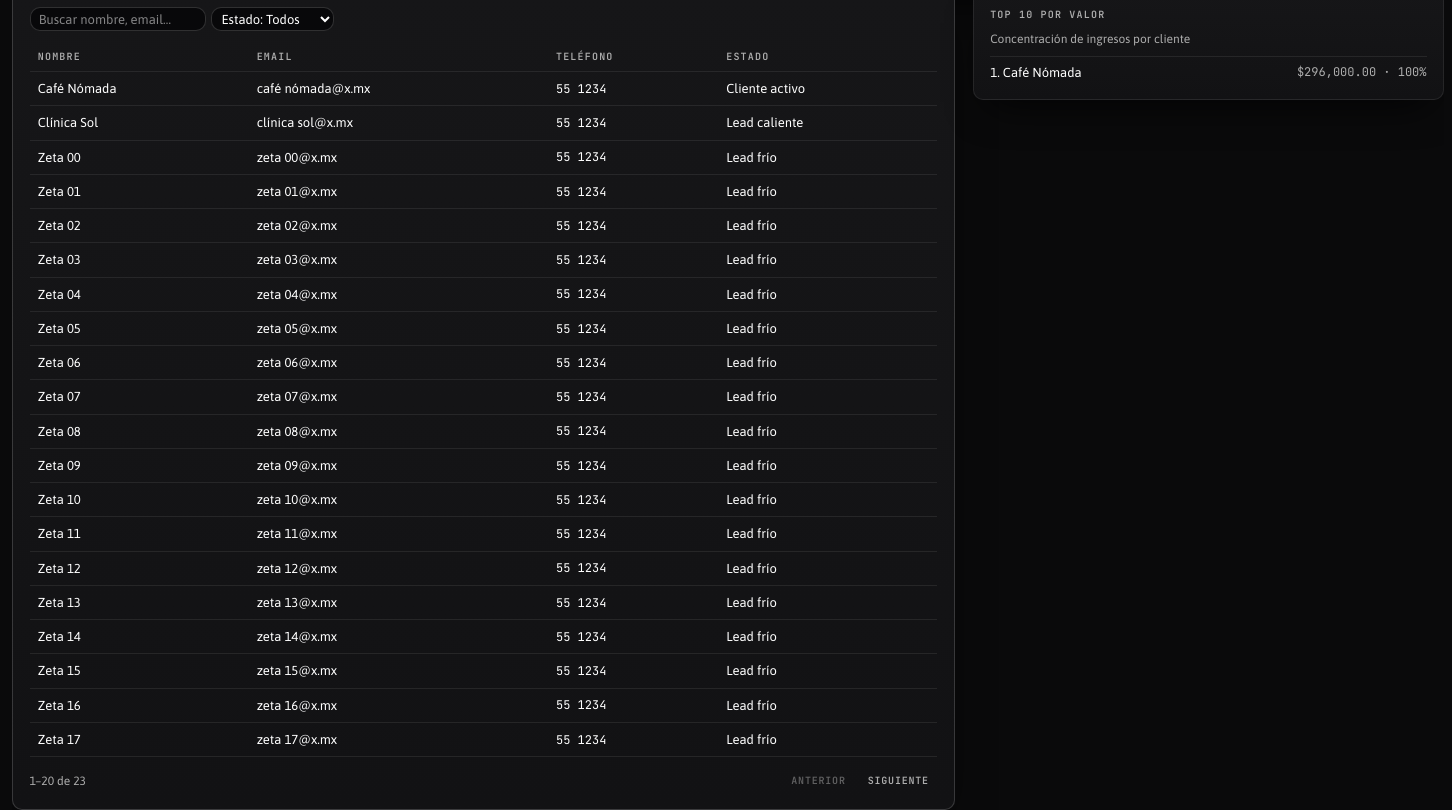
Contactos › pages the table twenty at a time
(page scrolled)
Expected: the text "Clínica Sol" is shown, [30,106,248,140]
Click the button "Siguiente": (898, 780) [860,768,937,793]
(page scrolled)
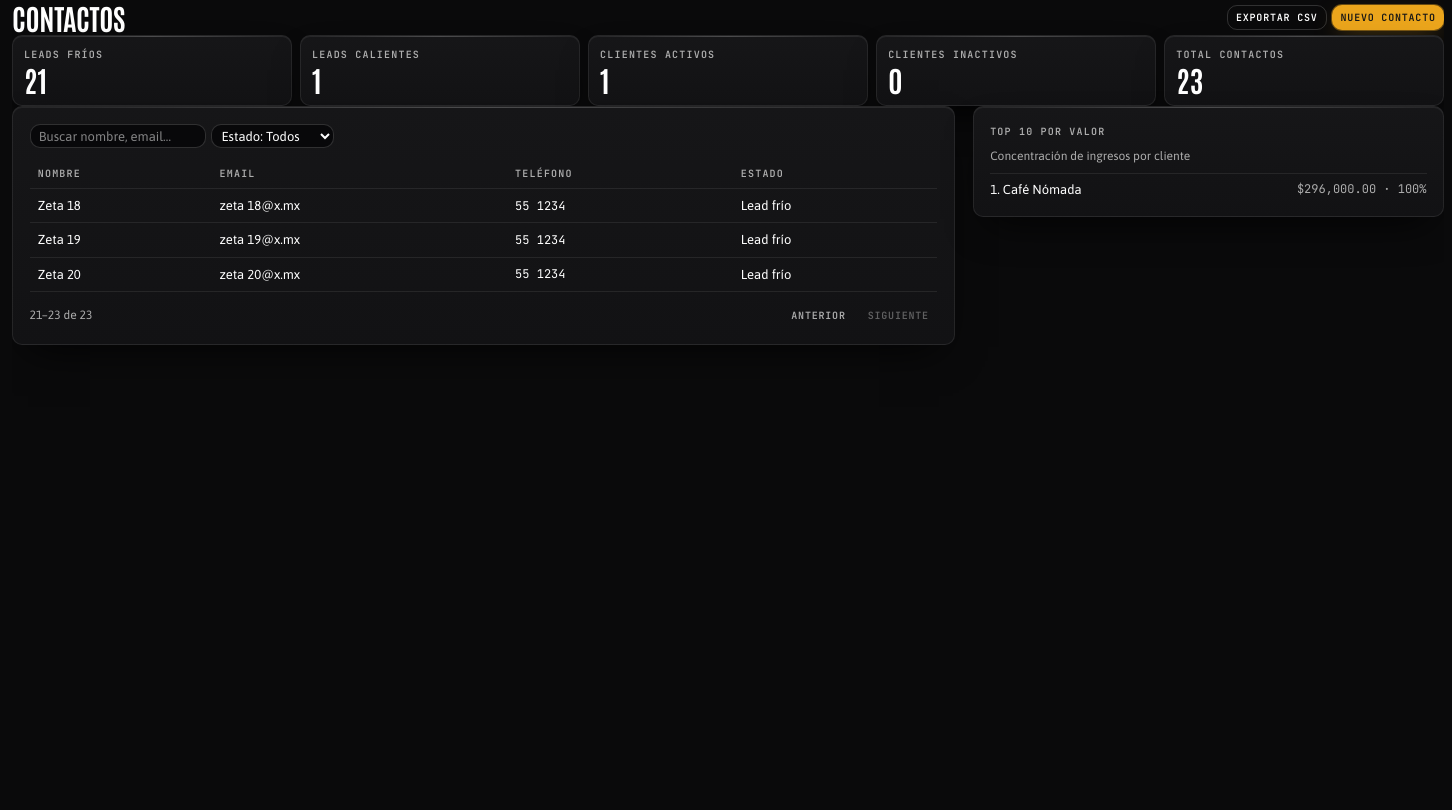
Expected: the text "21–23 de 23" is shown, [30,306,92,324]
